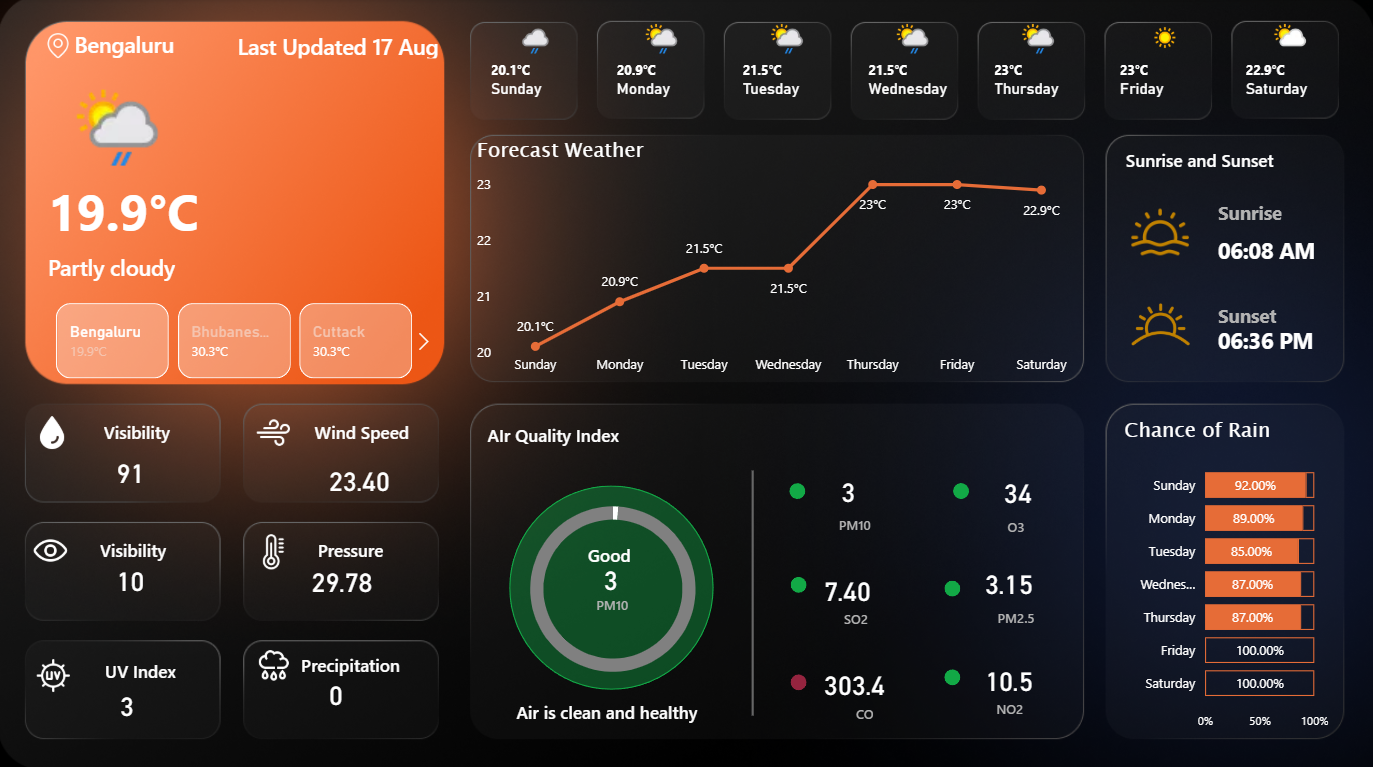

The page's visual inventory and layout, read from the dashboard file:
{"tool":"powerbi","page":{"name":"Page 1","canvas":[1280,720],"ordinal":0},"visuals":[{"type":"hundredPercentStackedBarChart","title":"Chance of Rain","fields":{"Y":["Sum(Forcast_Day.forecast.forecastday.day.daily_chance_of_rain)","_Measures.Left_Value_Rain"],"Category":["Forcast_Day.Day_Name"]},"box":[1043.4,387,199.7,302.2],"z":0},{"type":"shape","box":[475.9,454,190.1,190],"z":1000},{"type":"advancedSlicerVisual","fields":{"Values":["Locations.location.name"]},"box":[28.8,278.6,382.8,81],"z":2000},{"type":"shape","box":[46.7,161.9,157.8,72.7],"z":3000},{"type":"shape","box":[46.7,234.6,259.3,31.6],"z":4000},{"type":"shape","box":[71.4,23.3,130.4,39.8],"z":5000},{"type":"image","box":[28.8,27.4,53.5,32.9],"z":6000},{"type":"shape","box":[220.9,31.6,190.7,24.7],"z":7000},{"type":"cardVisual","fields":{"Data":["Min(current data.current.condition.icon)"]},"box":[46.7,56.3,127.6,111.1],"z":8000},{"type":"image","box":[28.8,378.7,42.5,50.8],"z":9000},{"type":"image","box":[234.6,378.7,42.5,50.8],"z":10000},{"type":"image","box":[26.1,488.5,46.7,50.8],"z":11000},{"type":"image","box":[30.2,603.8,42.5,53.5],"z":12000},{"type":"image","box":[220.9,598.3,71.4,43.9],"z":13000},{"type":"image","box":[234.6,488.5,42.5,53.5],"z":14000},{"type":"shape","box":[67.2,387,123.5,32.9],"z":15000},{"type":"shape","box":[64.5,496.7,123.5,32.9],"z":16000},{"type":"shape","box":[71.4,609.3,123.5,32.9],"z":17000},{"type":"shape","box":[277.2,387,123.5,32.9],"z":18000},{"type":"shape","box":[266.2,496.7,123.5,32.9],"z":19000},{"type":"shape","box":[266.2,603.8,123.5,32.9],"z":20000},{"type":"cardVisual","fields":{"Data":["Sum(current data.current.humidity)"]},"box":[93.3,403.4,67.2,71.4],"z":21000},{"type":"cardVisual","fields":{"Data":["Sum(current data.current.uv)"]},"box":[96.1,620.2,67.2,71.4],"z":22000},{"type":"cardVisual","fields":{"Data":["Sum(current data.current.vis_km)"]},"box":[93.3,503.6,67.2,71.4],"z":23000},{"type":"cardVisual","fields":{"Data":["Sum(current data.current.pressure_in)"]},"box":[274.9,504.2,114.7,70.6],"z":24000},{"type":"cardVisual","fields":{"Data":["Sum(current data.current.precip_in)"]},"box":[290.9,609.3,67.2,71.4],"z":25000},{"type":"cardVisual","fields":{"Data":["Sum(current data.current.wind_kph)"]},"box":[290.5,412.1,93.6,69.3],"z":26000},{"type":"advancedSlicerVisual","fields":{"Values":["Forcast_Day.Day_Name"]},"box":[441,13.2,821.7,98.5],"z":27000},{"type":"lineChart","title":"Forecast Weather","fields":{"Y":["Sum(Forcast_Day.forecast.forecastday.day.avgtemp_c)"],"Category":["Forcast_Day.Day_Name"]},"box":[441,127.1,566.5,232.7],"z":28000},{"type":"shape","box":[1027.2,133.7,182.3,32.8],"z":29000},{"type":"shape","box":[1134.7,207.8,107.1,52.3],"z":30000},{"type":"shape","box":[1134.7,292,107.1,52.3],"z":31000},{"type":"shape","box":[1134.7,277.9,107.1,34.4],"z":32000},{"type":"shape","box":[1134.7,173.4,107.1,52.3],"z":33000},{"type":"image","box":[1042.9,186.1,75.2,63.7],"z":34000},{"type":"image","box":[1027.6,262.6,107.1,81.6],"z":35000},{"type":"shape","box":[425.3,389.7,181.9,32.8],"z":36000},{"type":"cardVisual","fields":{"Data":["Sum(current data.current.air_quality.o3)"]},"box":[919,417.1,84.8,79.3],"z":37000},{"type":"cardVisual","fields":{"Data":["Sum(current data.current.air_quality.no2)"]},"box":[901.2,597.6,86.2,69.7],"z":38000},{"type":"cardVisual","fields":{"Data":["Sum(current data.current.air_quality.co)"]},"box":[750.8,601.7,101.2,69.7],"z":39000},{"type":"cardVisual","fields":{"Data":["Sum(current data.current.air_quality.pm2_5)"]},"box":[901.2,507.4,119,69.7],"z":40000},{"type":"cardVisual","fields":{"Data":["Sum(current data.current.air_quality.so2)"]},"box":[750.8,514.2,102.6,69.7],"z":41000},{"type":"cardVisual","fields":{"Data":["Sum(current data.current.air_quality.pm10)"]},"box":[767.2,422.6,86.2,69.7],"z":42000},{"type":"shape","box":[750.8,474.5,91.6,31.5],"z":43000},{"type":"shape","box":[895.7,645.5,91.6,31.5],"z":44000},{"type":"shape","box":[760.3,649.6,91.6,31.5],"z":45000},{"type":"shape","box":[752.1,562.1,91.6,31.5],"z":46000},{"type":"shape","box":[901.2,560.7,91.6,31.5],"z":47000},{"type":"shape","box":[901.2,475.9,91.6,31.5],"z":48000},{"type":"shape","box":[735.7,451.3,15,15],"z":49000},{"type":"shape","box":[737.1,629.1,15,15],"z":50000},{"type":"shape","box":[737.1,538.8,15,15],"z":51000},{"type":"shape","box":[880.7,625,15,15],"z":52000},{"type":"shape","box":[880.7,541.5,15,15],"z":53000},{"type":"shape","box":[888.9,451.3,15,15],"z":54000},{"type":"shape","box":[607.2,439,190.1,228.4],"z":55000},{"type":"donutChart","fields":{"Y":["Sum(current data.current.air_quality.pm10)","_Measures.Left_Value_PM10"]},"box":[451.3,448.5,242.1,202.4],"z":56000},{"type":"cardVisual","fields":{"Data":["Sum(current data.current.air_quality.pm10)"]},"box":[547,503.2,69.7,58.8],"z":57000},{"type":"shape","box":[525.1,548.4,91.6,31.5],"z":58000},{"type":"shape","box":[497.8,492.3,142.2,52],"z":59000},{"type":"shape","box":[475.9,648.2,181.9,32.8],"z":60000}]}

Visuals, with their boxes in screenshot pixels (x1, y1, x2, y2), scaled from the page's 1280x720 canvas onto the 1373x767 screenshot:
"Chance of Rain" hundredPercentStackedBarChart: 1119,412,1333,734
shape: 510,484,714,686
advancedSlicerVisual - Locations.location.name: 31,297,442,383
shape: 50,172,219,250
shape: 50,250,328,284
shape: 77,25,216,67
image: 31,29,88,64
shape: 237,34,442,60
cardVisual - Min(current data.current.condition.icon): 50,60,187,178
image: 31,403,76,458
image: 252,403,297,458
image: 28,520,78,575
image: 32,643,78,700
image: 237,637,314,684
image: 252,520,297,577
shape: 72,412,205,447
shape: 69,529,202,564
shape: 77,649,209,684
shape: 297,412,430,447
shape: 286,529,418,564
shape: 286,643,418,678
cardVisual - Sum(current data.current.humidity): 100,430,172,506
cardVisual - Sum(current data.current.uv): 103,661,175,737
cardVisual - Sum(current data.current.vis_km): 100,536,172,613
cardVisual - Sum(current data.current.pressure_in): 295,537,418,612
cardVisual - Sum(current data.current.precip_in): 312,649,384,725
cardVisual - Sum(current data.current.wind_kph): 312,439,412,513
advancedSlicerVisual - Forcast_Day.Day_Name: 473,14,1354,119
"Forecast Weather" lineChart: 473,135,1081,383
shape: 1102,142,1297,177
shape: 1217,221,1332,277
shape: 1217,311,1332,367
shape: 1217,296,1332,333
shape: 1217,185,1332,240
image: 1119,198,1199,266
image: 1102,280,1217,367
shape: 456,415,651,450
cardVisual - Sum(current data.current.air_quality.o3): 986,444,1077,529
cardVisual - Sum(current data.current.air_quality.no2): 967,637,1059,711
cardVisual - Sum(current data.current.air_quality.co): 805,641,914,715
cardVisual - Sum(current data.current.air_quality.pm2_5): 967,541,1094,615
cardVisual - Sum(current data.current.air_quality.so2): 805,548,915,622
cardVisual - Sum(current data.current.air_quality.pm10): 823,450,915,524
shape: 805,505,904,539
shape: 961,688,1059,721
shape: 816,692,914,726
shape: 807,599,905,632
shape: 967,597,1065,631
shape: 967,507,1065,541
shape: 789,481,805,497
shape: 791,670,807,686
shape: 791,574,807,590
shape: 945,666,961,682
shape: 945,577,961,593
shape: 953,481,970,497
shape: 651,468,855,711
donutChart - Sum(current data.current.air_quality.pm10) x _Measures.Left_Value_PM10: 484,478,744,693
cardVisual - Sum(current data.current.air_quality.pm10): 587,536,662,599
shape: 563,584,662,618
shape: 534,524,686,580
shape: 510,691,706,725
